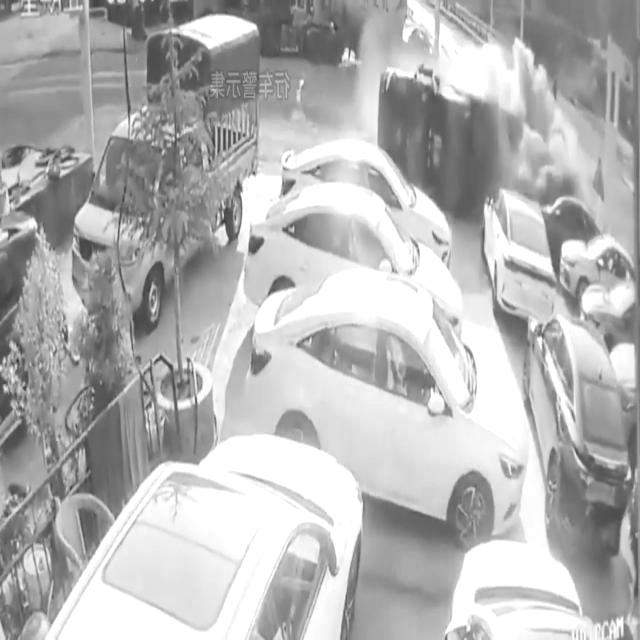accident: (358, 40, 584, 218)
non-accident: (241, 140, 533, 550), (241, 186, 533, 548), (480, 188, 630, 554), (244, 139, 466, 357)
